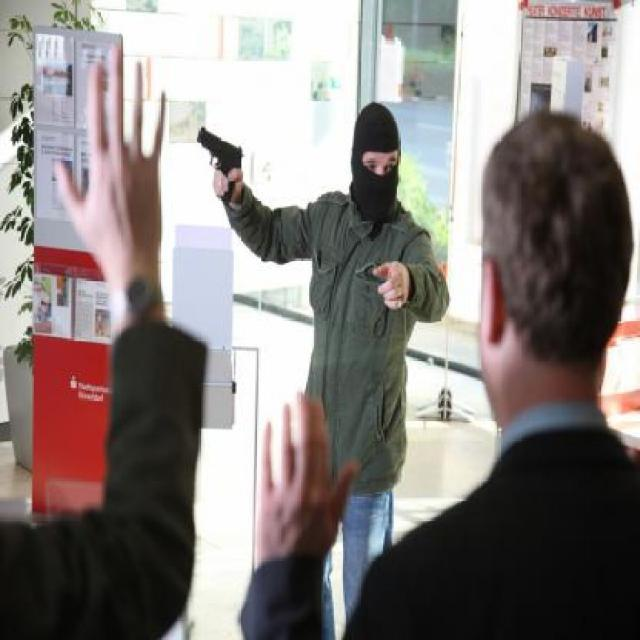weapon: (188, 122, 250, 206)
